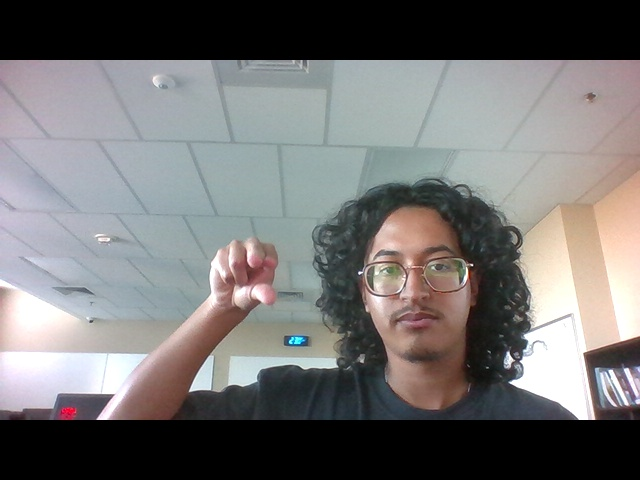no: (199, 230, 298, 316)
